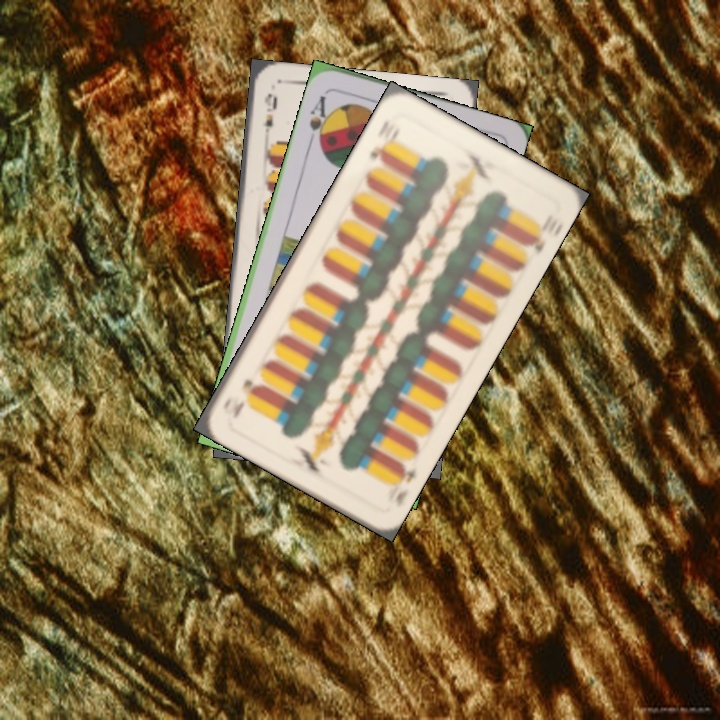E10: (391, 458, 420, 510), (365, 119, 397, 165)
E9: (260, 89, 280, 145)
SA: (304, 91, 334, 149)
